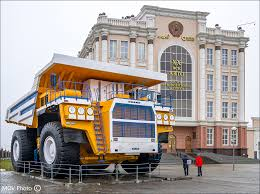Person: (195, 155, 204, 176), (182, 155, 189, 176)
Truck: (6, 54, 175, 176)
